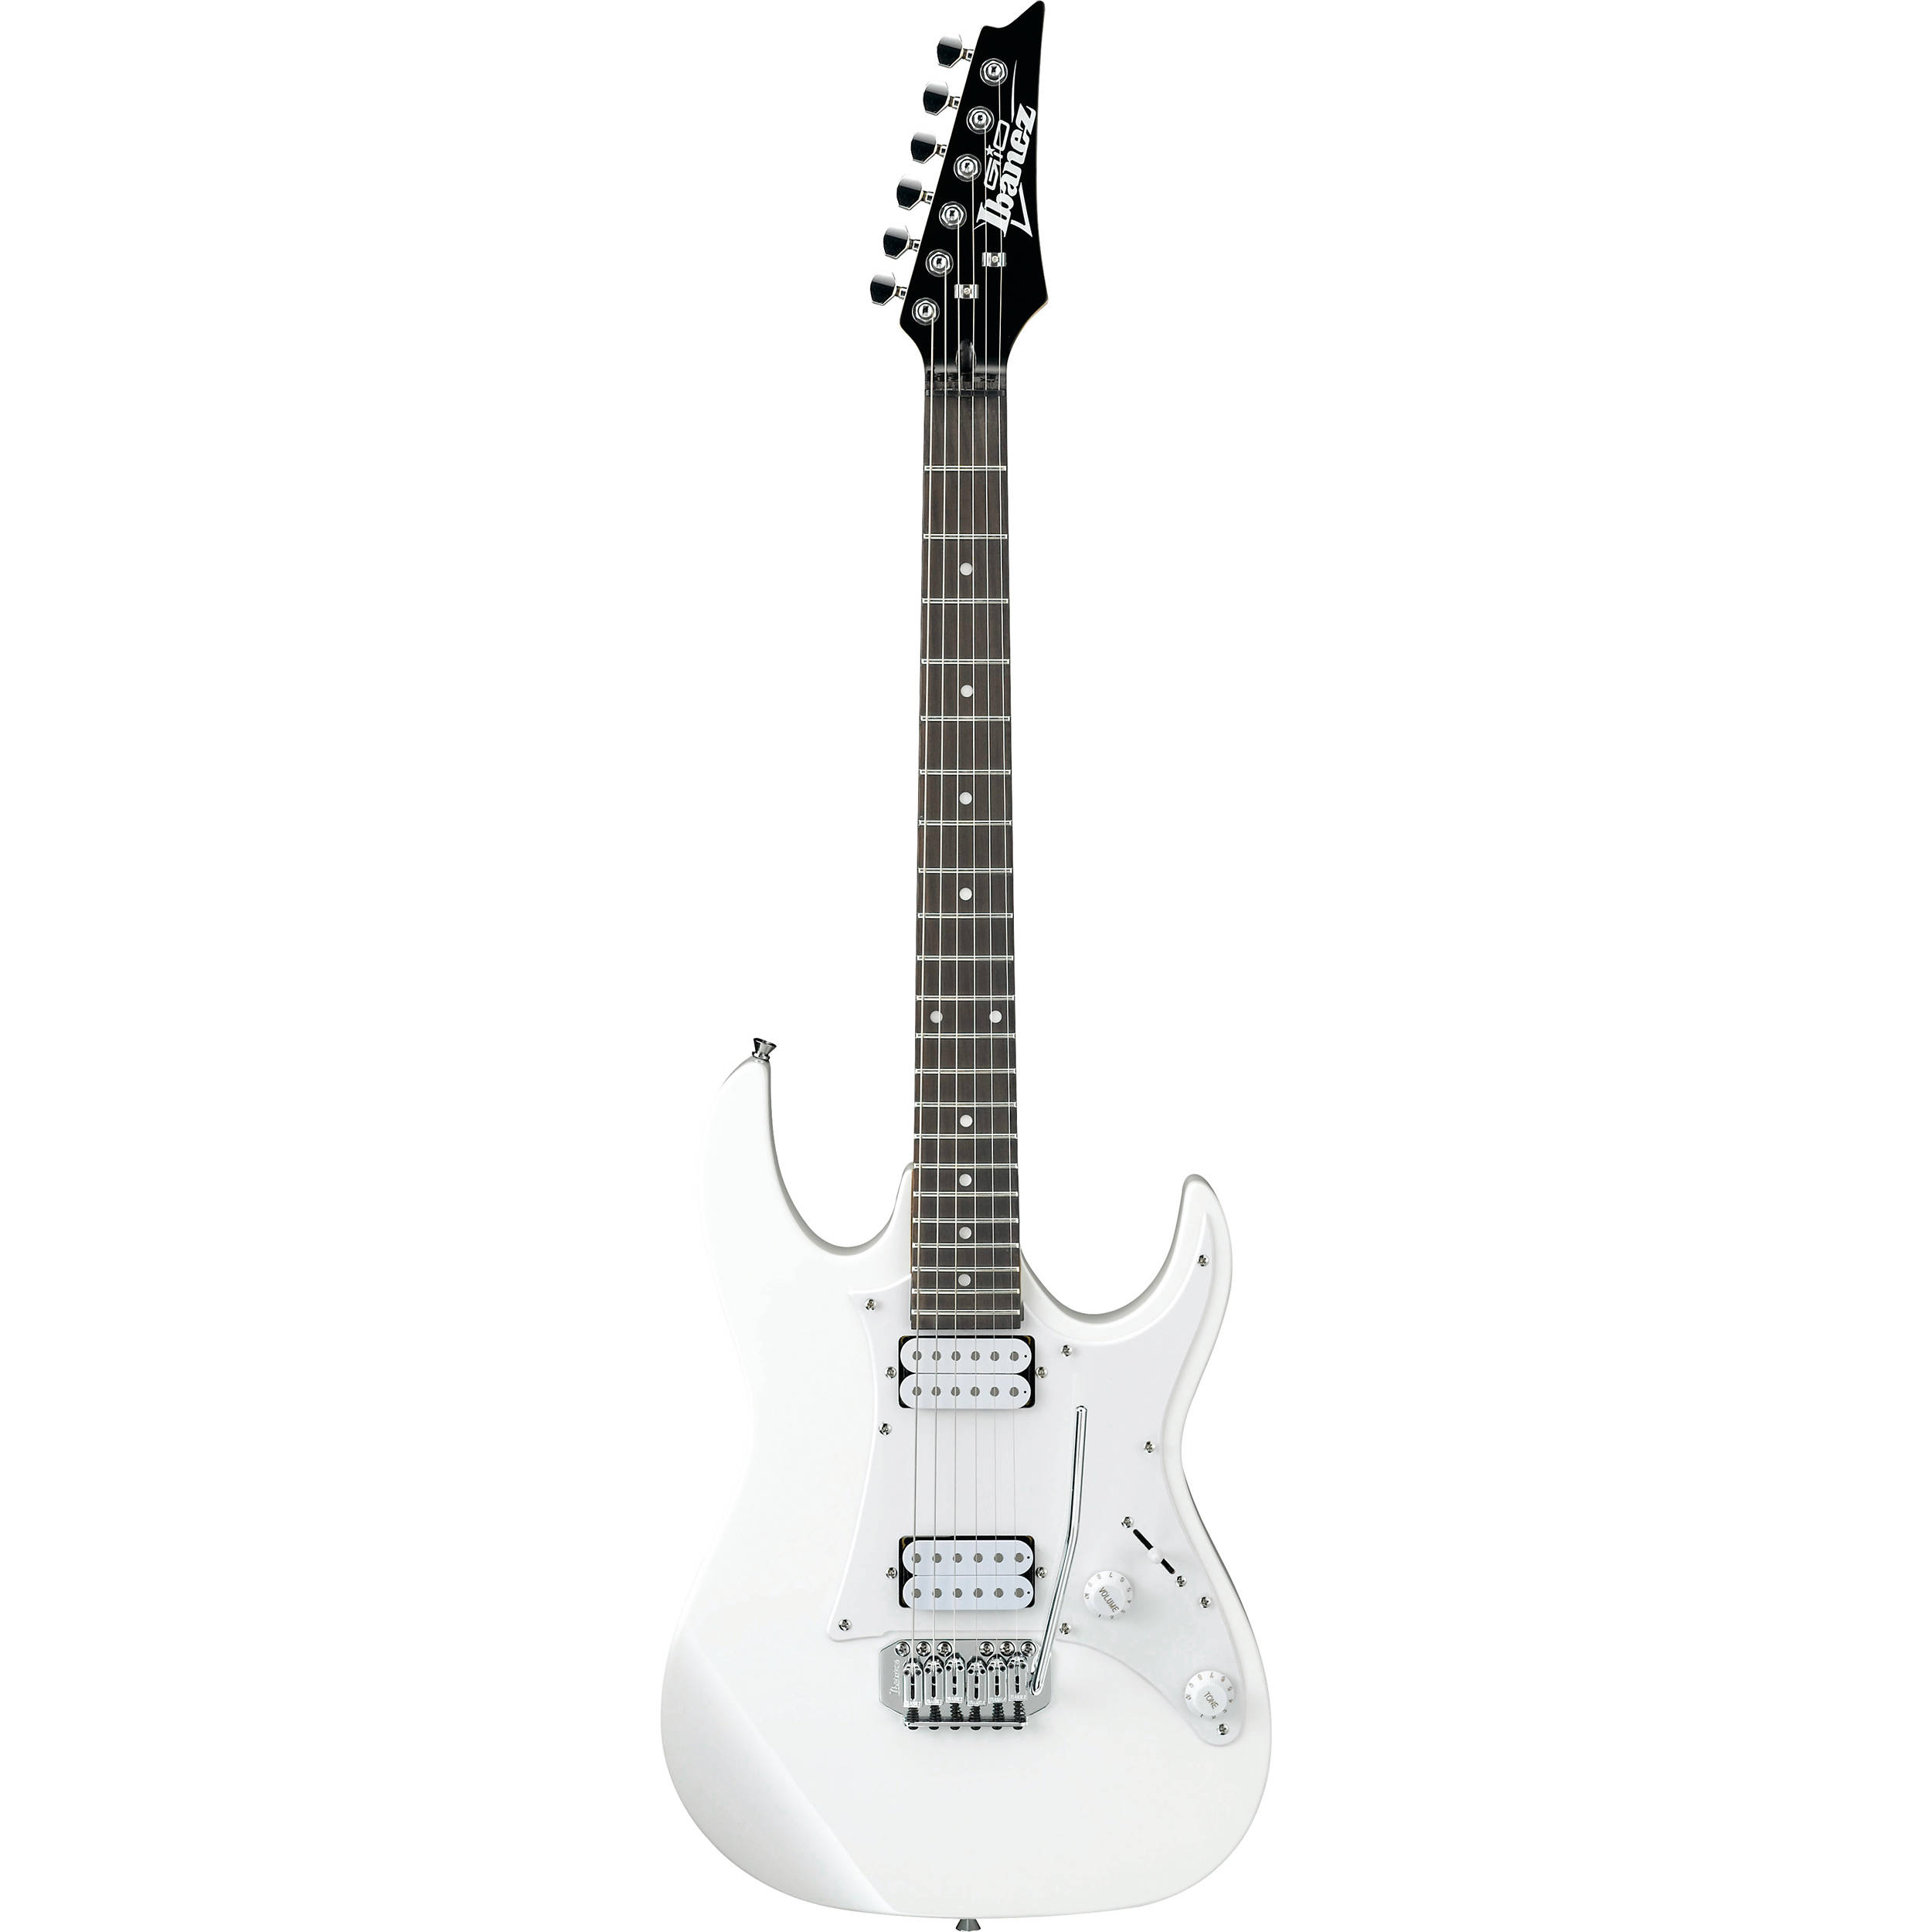ElectricGuitar: (632, 65, 1369, 1932)
